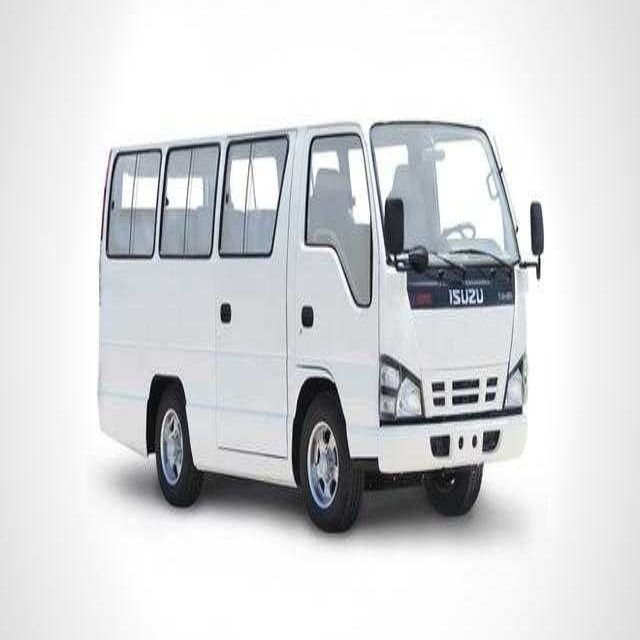Van: (99, 112, 541, 535)
